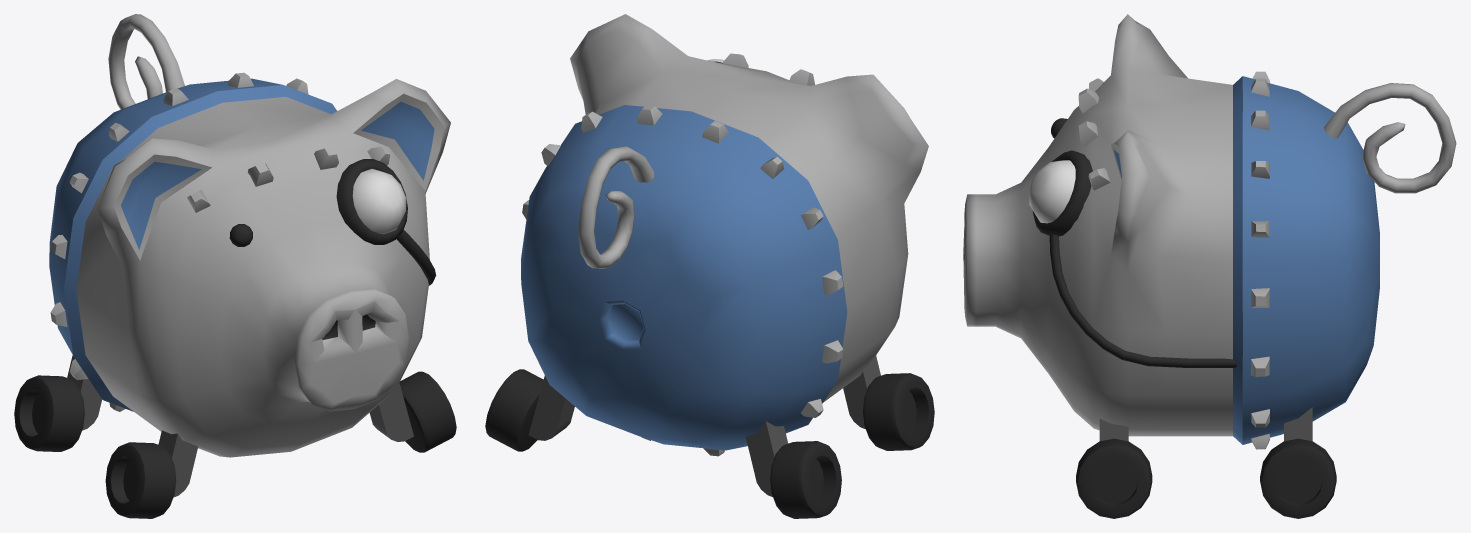
The model's file is Lil-Pig.fbx.
3 renders of one model, left to right at view 1: azimuth 30°, elevation 25°; view 2: azimuth 150°, elevation 25°; view 3: azimuth 270°, elevation 25°, orthographic.
Parts seen in each view (by area): view 1: Lil_Pig; view 2: Lil_Pig; view 3: Lil_Pig.
Boxes of the visible parts, x1=… form: Lil_Pig: x1=14, y1=14, x2=456, y2=518; Lil_Pig: x1=485, y1=14, x2=934, y2=518; Lil_Pig: x1=963, y1=14, x2=1456, y2=518.
Bounding box in the file's own units: 101 × 101 × 121.
